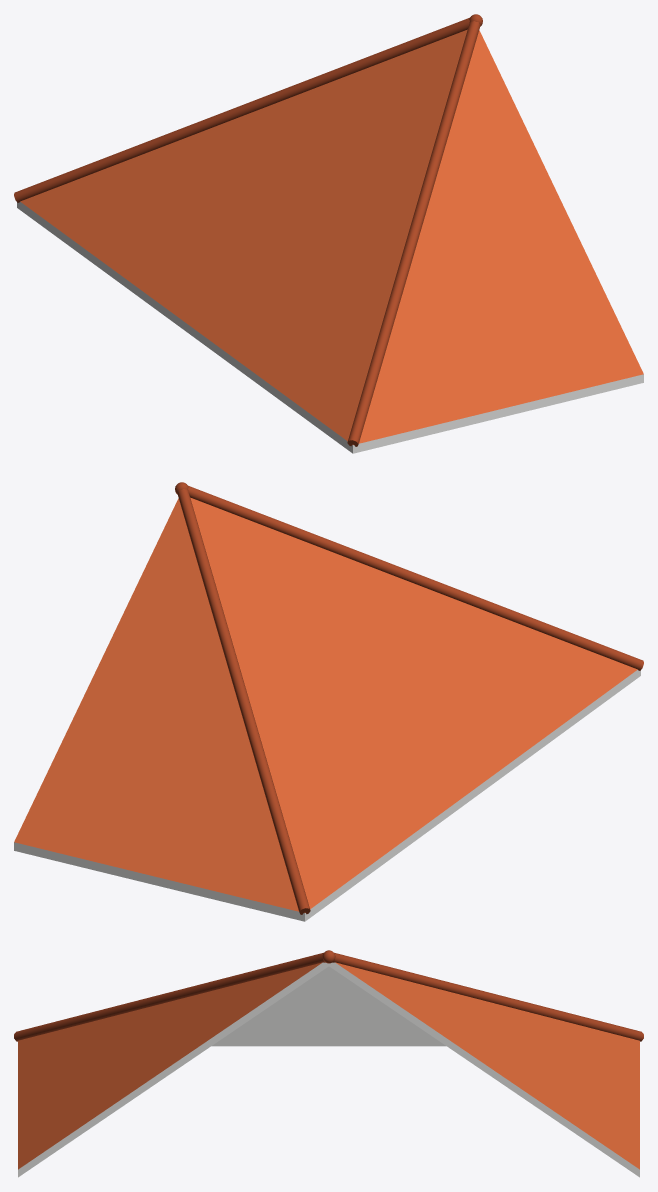
Rendered from telhado_quatro_aguas_ponta_v8_i75.glb.
3 renders of one model, top to bottom at view 1: azimuth 30°, elevation 25°; view 2: azimuth 150°, elevation 25°; view 3: azimuth 270°, elevation 25°, orthographic. The views are drawn at different scales.
Visible parts, largest first — view 1: telhado_quatro_aguas_ponta_v8_i75; view 2: telhado_quatro_aguas_ponta_v8_i75; view 3: telhado_quatro_aguas_ponta_v8_i75.
Part boxes in pixels (x1,y1,x2,y2): telhado_quatro_aguas_ponta_v8_i75: (14,14,643,453); telhado_quatro_aguas_ponta_v8_i75: (14,482,643,921); telhado_quatro_aguas_ponta_v8_i75: (14,950,643,1177).
Size of the model in its own units: 4.14 by 3.22 by 8.1.
